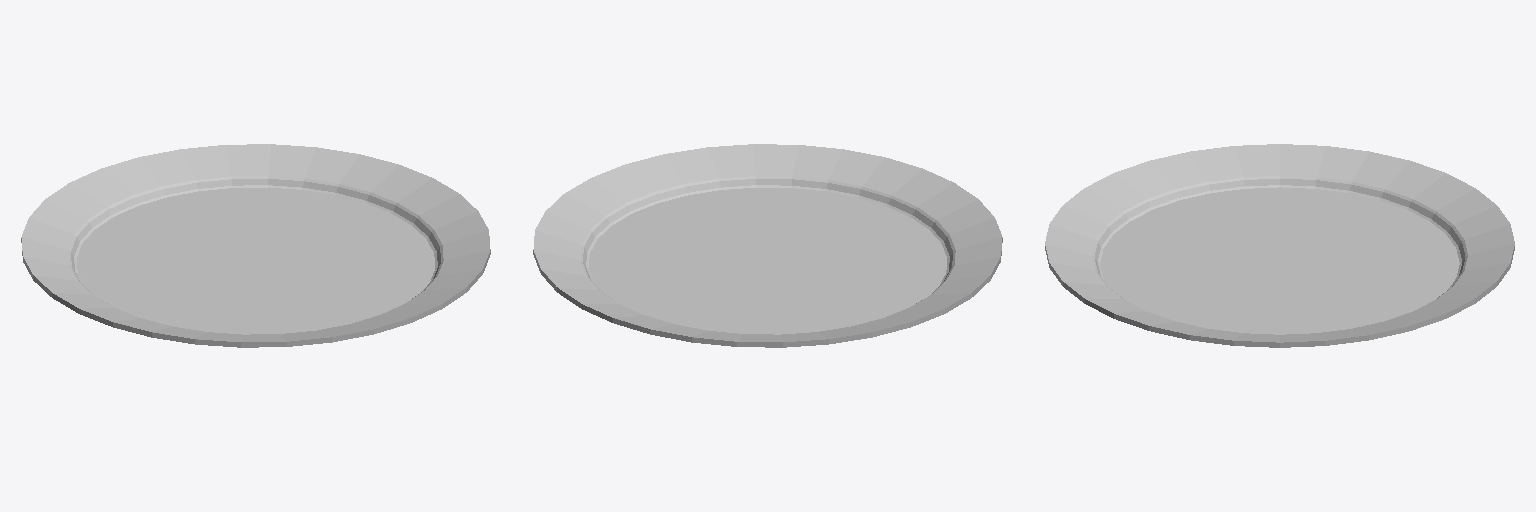
Rendered from Dish.obj.
The picture shows the model from 3 angles: view 1: azimuth 30°, elevation 25°; view 2: azimuth 150°, elevation 25°; view 3: azimuth 270°, elevation 25°; orthographic projection.
Visible parts, largest first — view 1: Cylinder_Cylinder.001; view 2: Cylinder_Cylinder.001; view 3: Cylinder_Cylinder.001.
Part boxes in pixels (left/top/right/bottom): Cylinder_Cylinder.001: left=21, top=144, right=490, bottom=347; Cylinder_Cylinder.001: left=533, top=144, right=1002, bottom=347; Cylinder_Cylinder.001: left=1045, top=144, right=1514, bottom=347.
Bounding box in the file's own units: 0.4234 × 0.0252 × 0.4234.